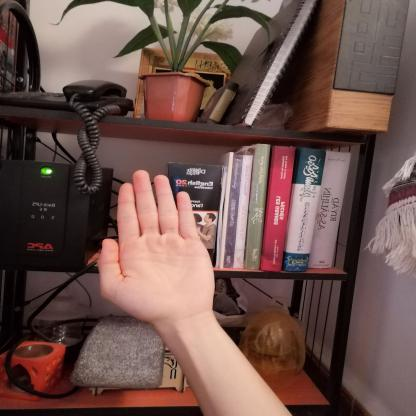SEEN: (86, 160, 223, 330)
